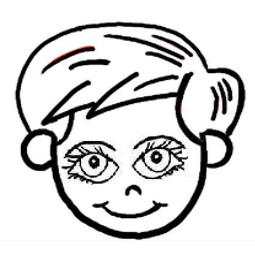ear: (15, 128, 55, 175), (200, 127, 238, 169)
eye: (130, 141, 190, 181), (64, 148, 122, 186)
eyebrow: (61, 138, 120, 157), (132, 132, 188, 150)
mouth: (88, 200, 171, 220)
nose: (114, 183, 151, 194)
